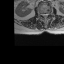CCS_normal: (44, 11, 46, 19)
LFS_stenosis: (48, 12, 50, 16)
LLS_normal: (46, 12, 48, 18)
RFS_stenosis: (40, 12, 42, 16)
RLS_normal: (42, 12, 44, 17)
